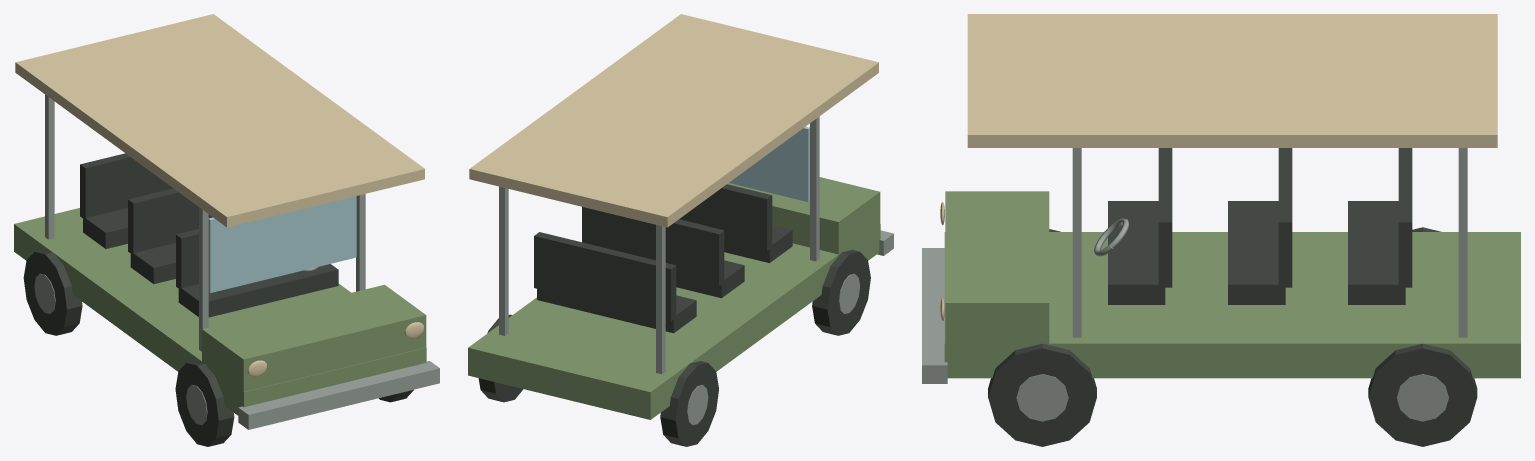
The model's file is zoo-and-safari-park-builder-safari-open-sided-truck-f9fbf163__21504.glb.
3 renders of one model, left to right at view 1: azimuth 30°, elevation 25°; view 2: azimuth 150°, elevation 25°; view 3: azimuth 270°, elevation 25°, orthographic. The views are drawn at different scales.
Parts seen in each view (by area): view 1: safari-open-sided-truck; view 2: safari-open-sided-truck; view 3: safari-open-sided-truck.
Part boxes in pixels (box(x1,y1,x2,y2)): safari-open-sided-truck: box(14, 14, 439, 446); safari-open-sided-truck: box(468, 14, 893, 446); safari-open-sided-truck: box(922, 14, 1520, 446).
Bounding box in the file's own units: 1.8 × 2.15 × 3.74.
